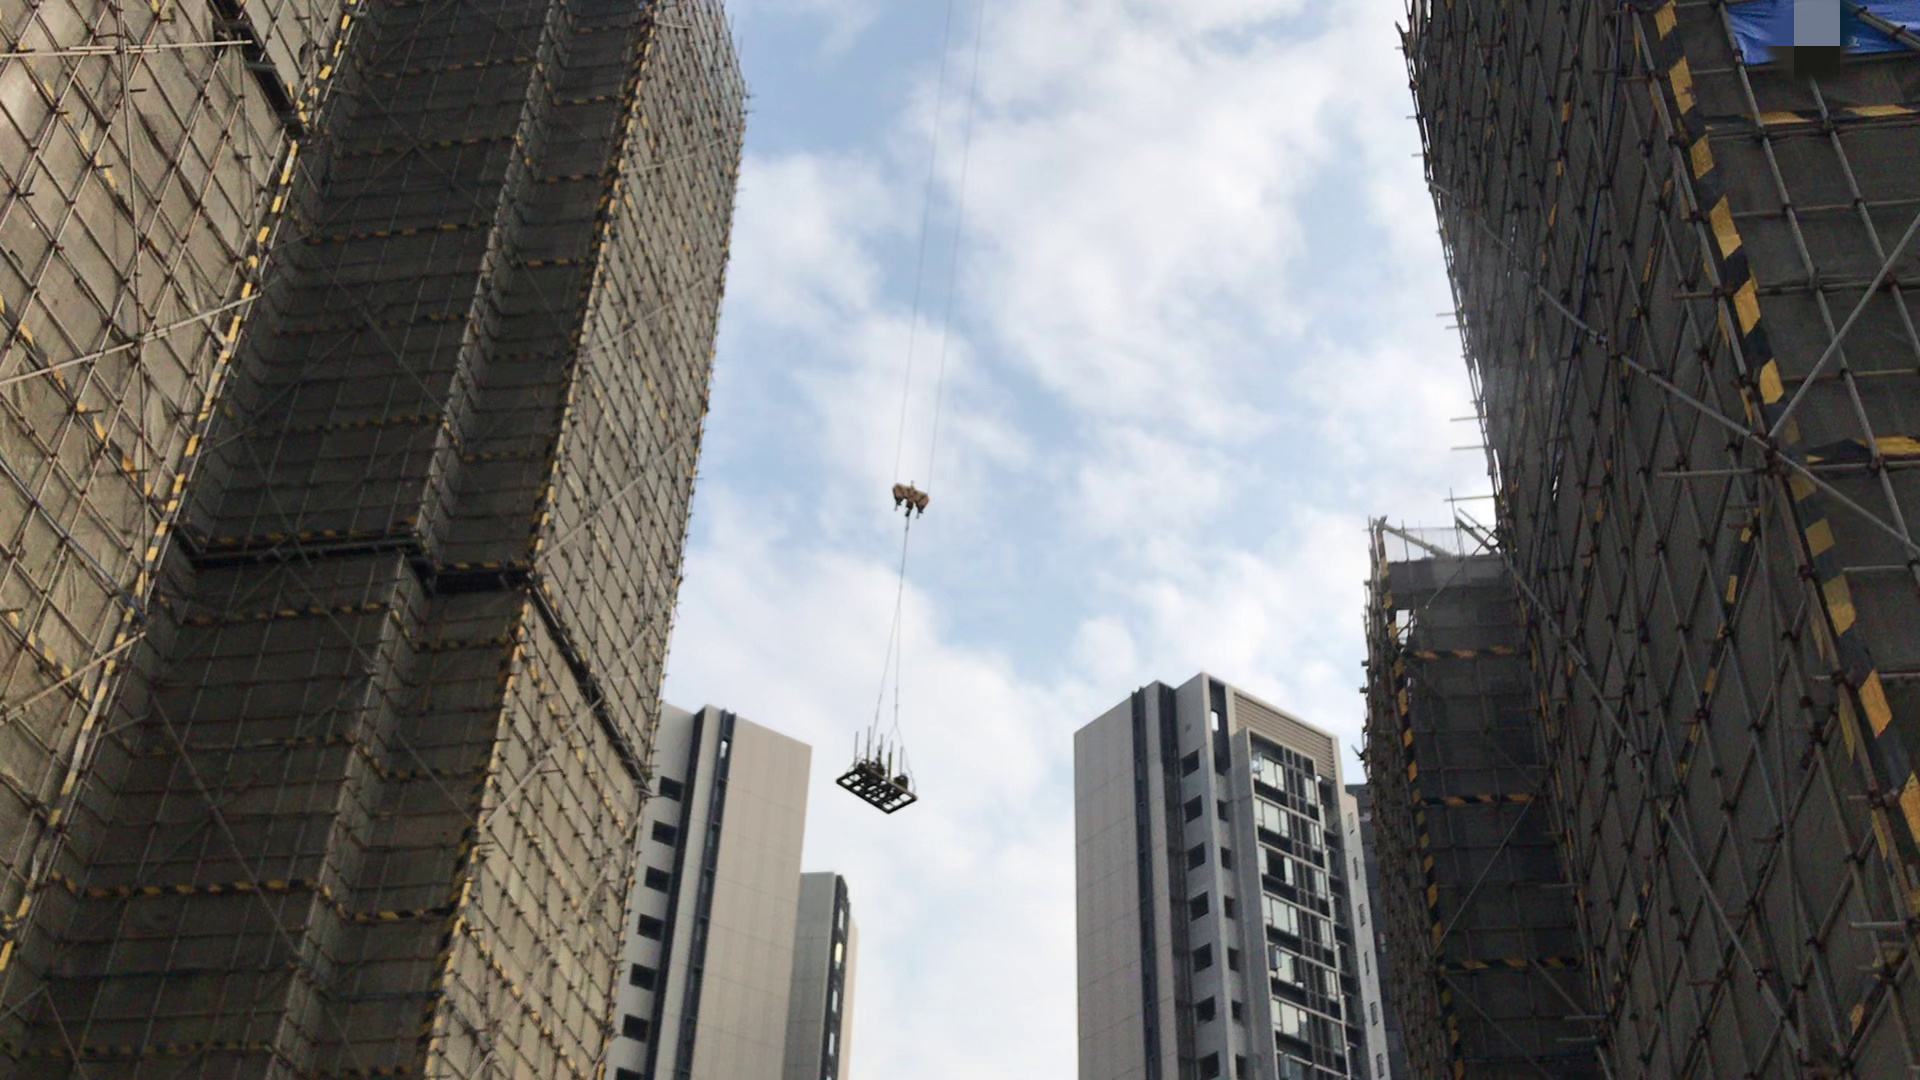hook: (880, 477, 942, 524)
